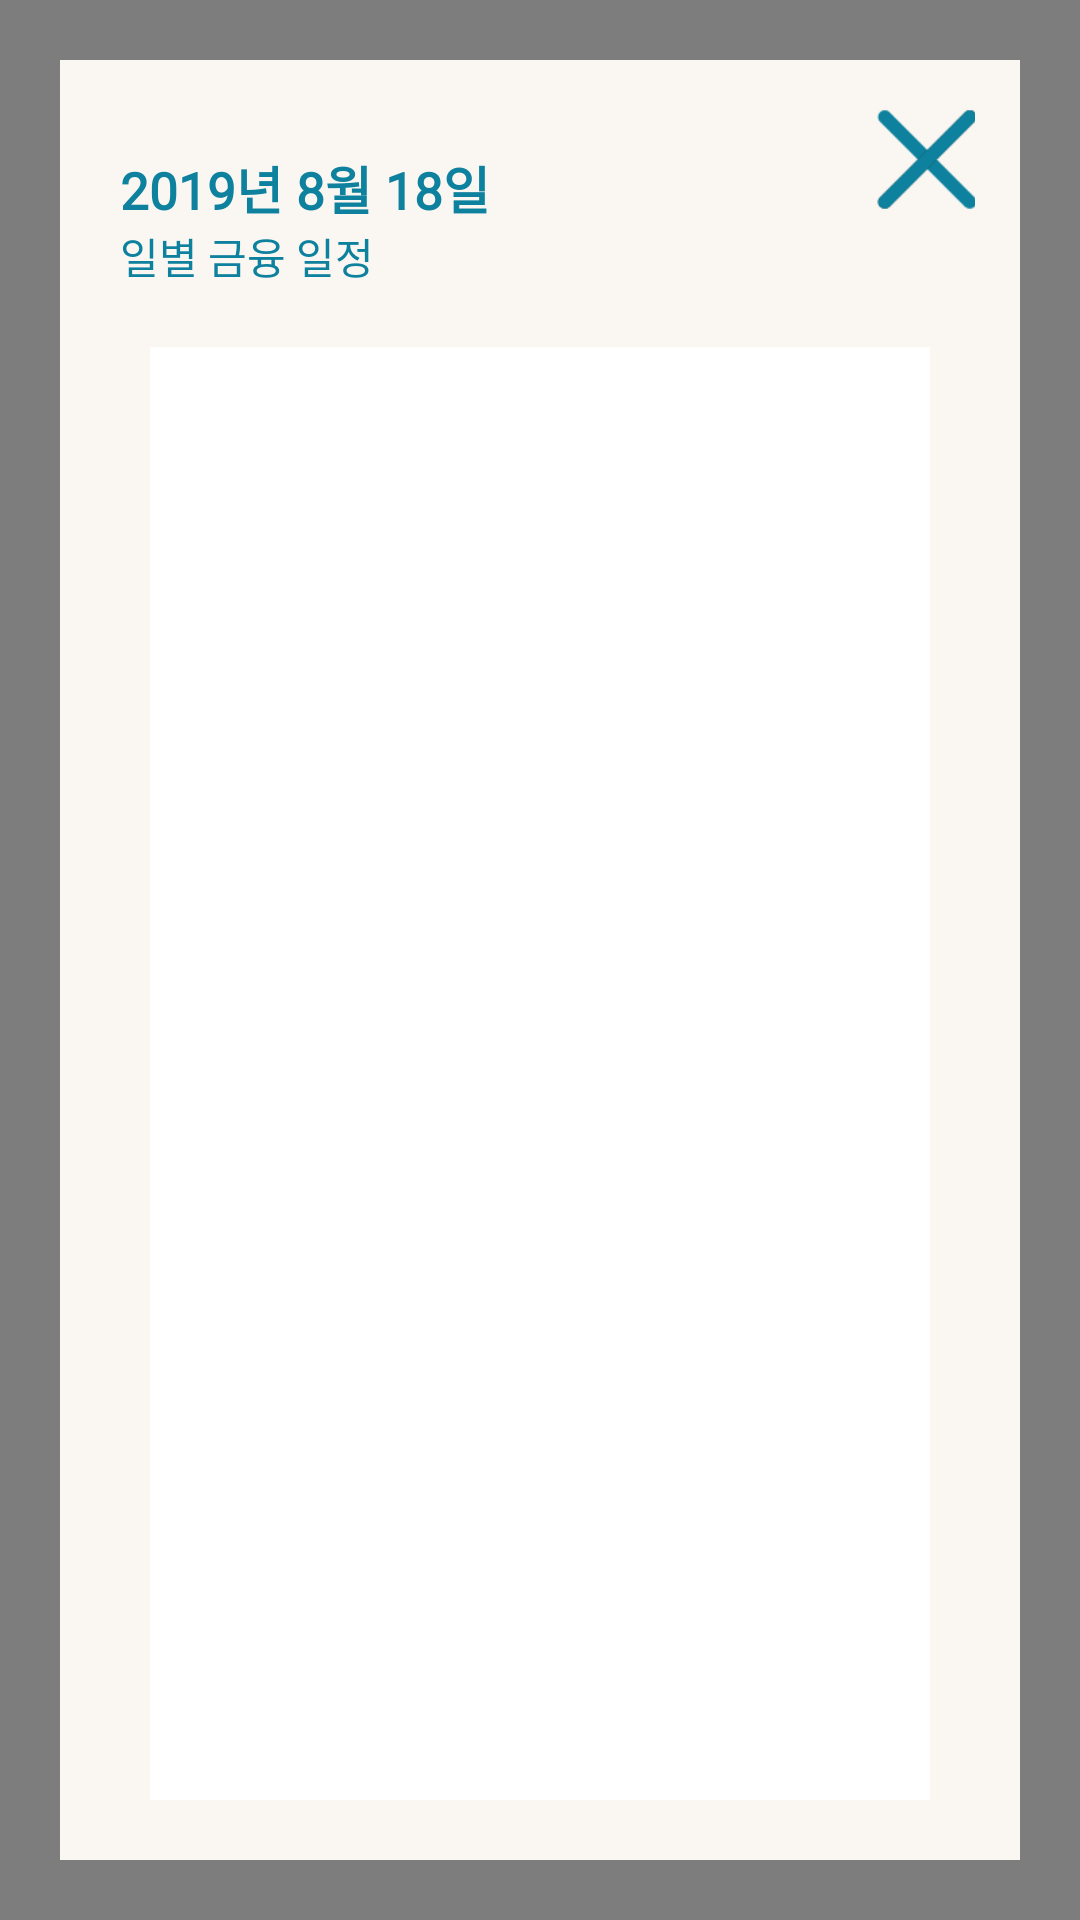

Icon bounding boxes for this 1080px x 1920px phone screenshot, format box(x1, y1, x2, y2):
xmark: box(877, 110, 975, 209)
